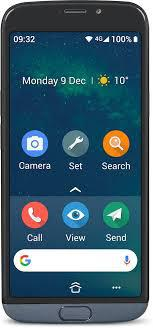Smartphone: (5, 0, 148, 316)
